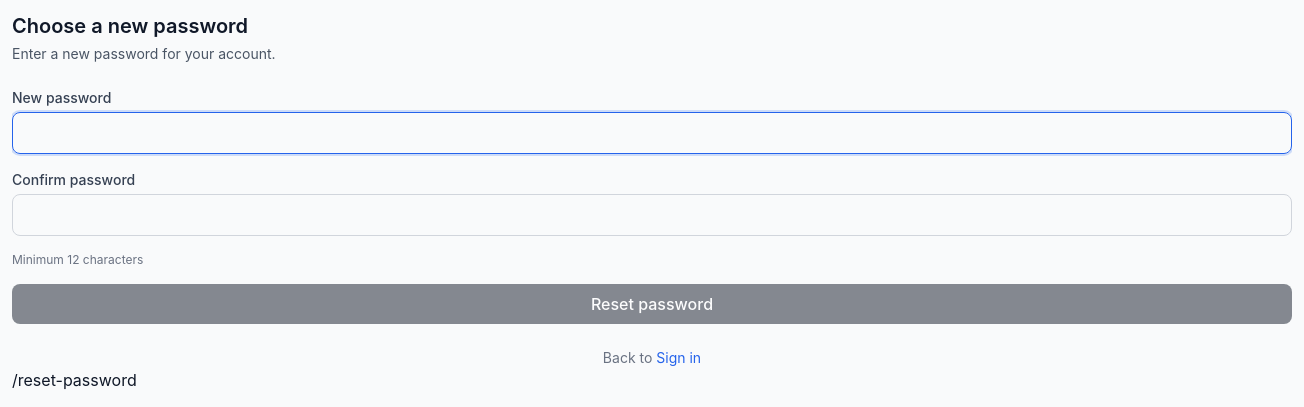
Test: ResetPassword › clears a terminal invalid token and returns to the safe reset-request flow
Type "Password123!" into the password field labelled "New password". click: (652, 133)
box: [12,112,1292,154]
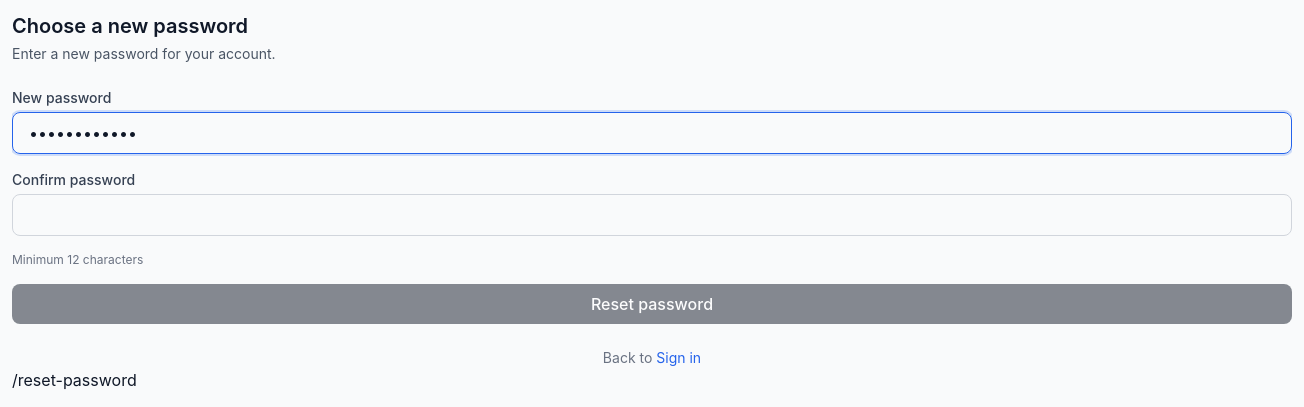
Type "Password123!" into the password field labelled "Confirm password". click: (652, 215)
box: [12,194,1292,236]
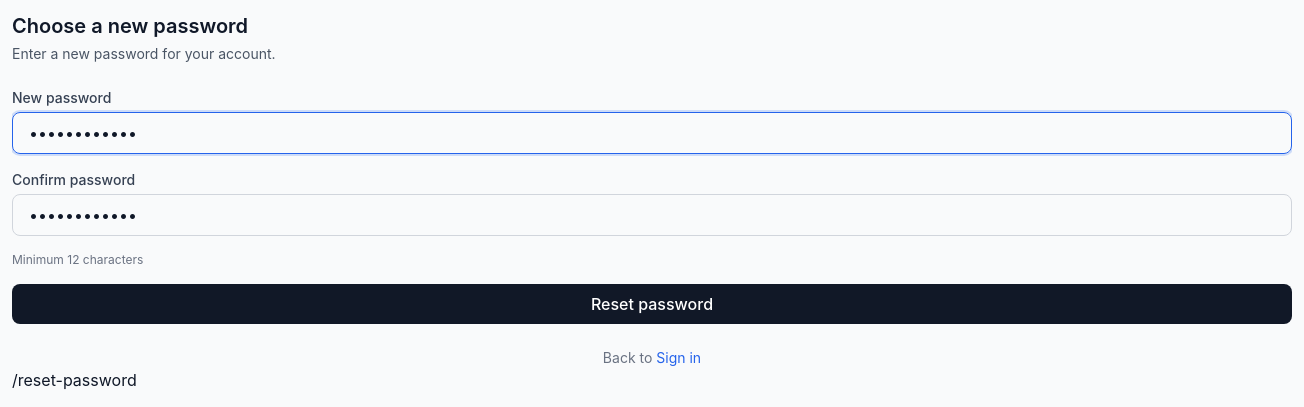
Click the button "Reset password". click: click(652, 304)
box: [12,284,1292,324]
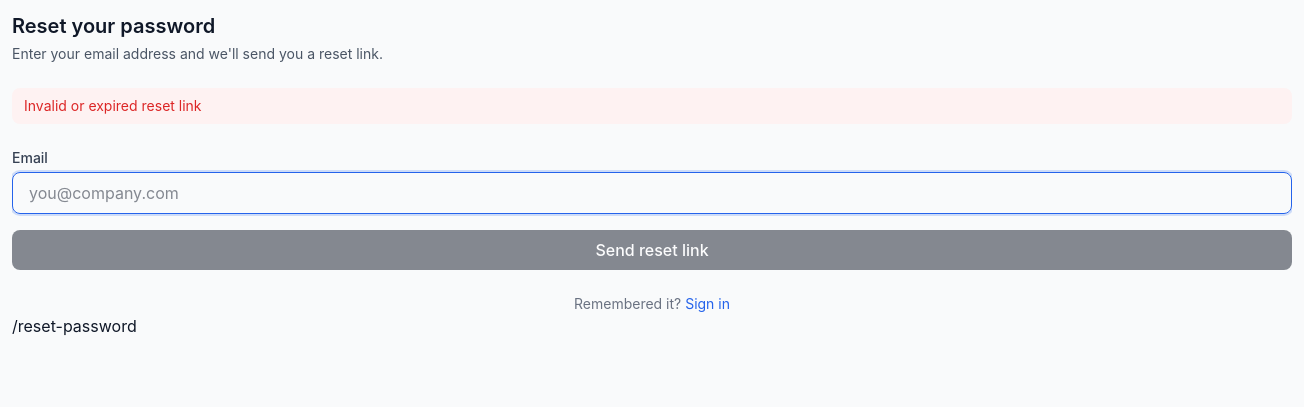
Expected: the text with test id "location" reads "/reset-password", [12,316,137,336]
Expected: the text "Invalid or expired reset link" is shown, [12,88,1292,124]
Expected: the button "Send reset link" is shown, [12,230,1292,270]
